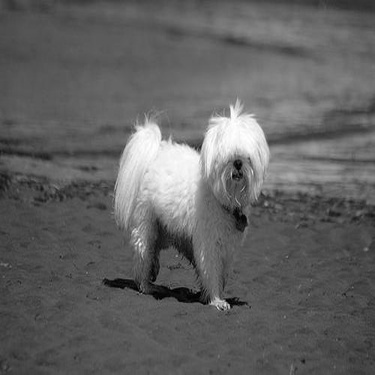dog: (99, 91, 273, 315)
